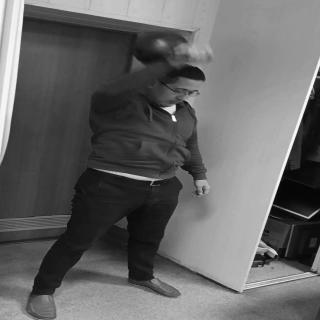kettlebell: (134, 33, 211, 68)
